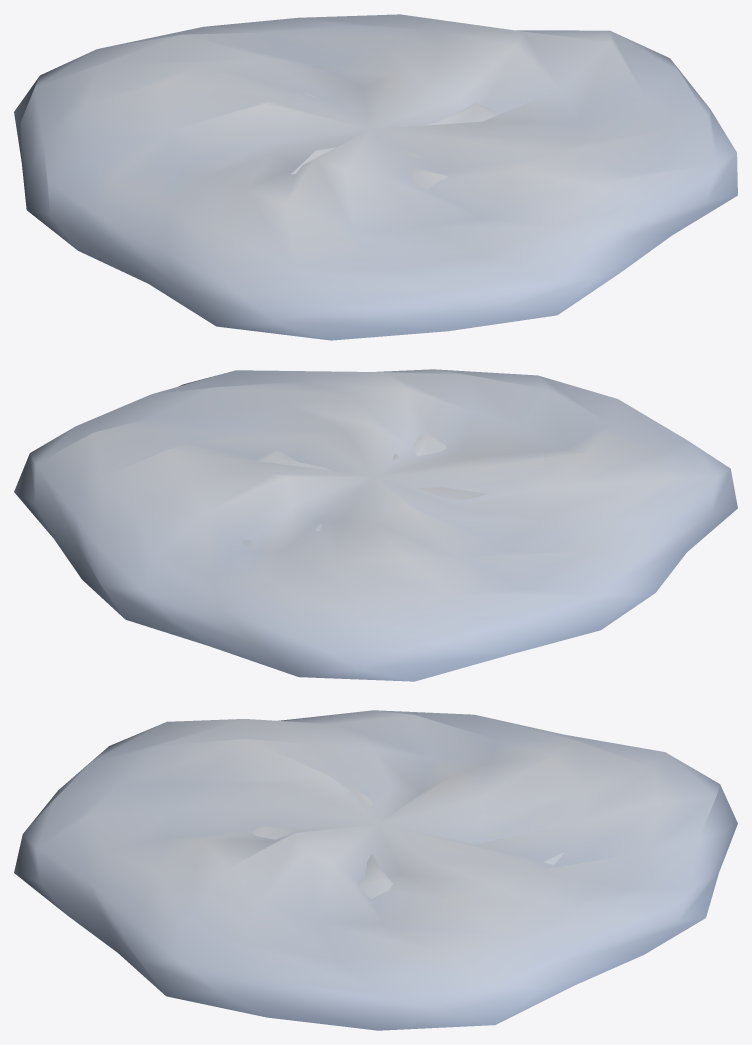
The model's file is snow.glb.
The picture shows the model from 3 angles, top to bottom: view 1: azimuth 30°, elevation 25°; view 2: azimuth 150°, elevation 25°; view 3: azimuth 270°, elevation 25°; orthographic projection. The views are drawn at different scales.
Visible parts, largest first — view 1: snow.l, snow.m; view 2: snow.l, snow.m; view 3: snow.l, snow.m.
Part boxes in pixels (box(x1,y1,x2,y2)): snow.l: box(14, 14, 737, 340); snow.m: box(291, 65, 498, 189); snow.l: box(14, 369, 737, 681); snow.m: box(242, 434, 487, 548); snow.l: box(14, 710, 737, 1030); snow.m: box(251, 784, 564, 898).
Size of the model in its own units: 8.03 by 0.7882 by 8.22.
